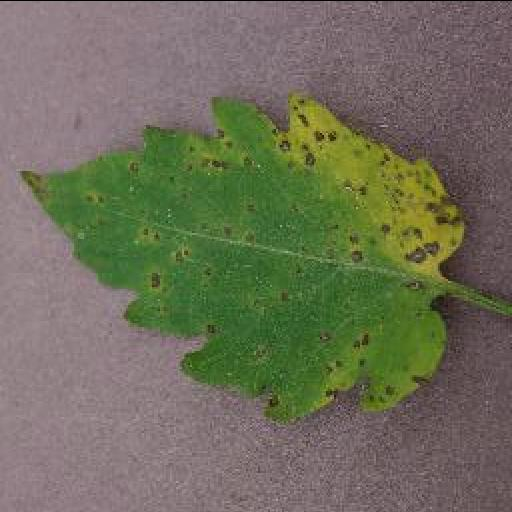disease_tomato: (19, 88, 469, 424)
